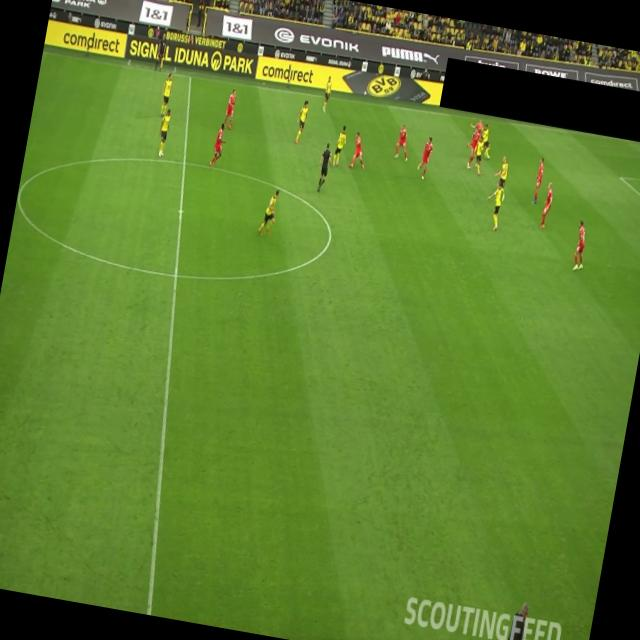player: (257, 188, 281, 238), (484, 178, 506, 232), (570, 220, 590, 272), (415, 134, 435, 181), (348, 132, 371, 170), (538, 181, 556, 229), (209, 121, 227, 168), (465, 116, 485, 158), (156, 106, 172, 158), (292, 99, 310, 144), (462, 126, 480, 169), (530, 156, 546, 204), (392, 122, 412, 160), (222, 86, 239, 130), (158, 72, 174, 118), (332, 124, 348, 168), (491, 154, 510, 190), (471, 135, 487, 176), (478, 123, 495, 159), (321, 74, 334, 113)
referee: (313, 142, 334, 194), (153, 30, 170, 74)
